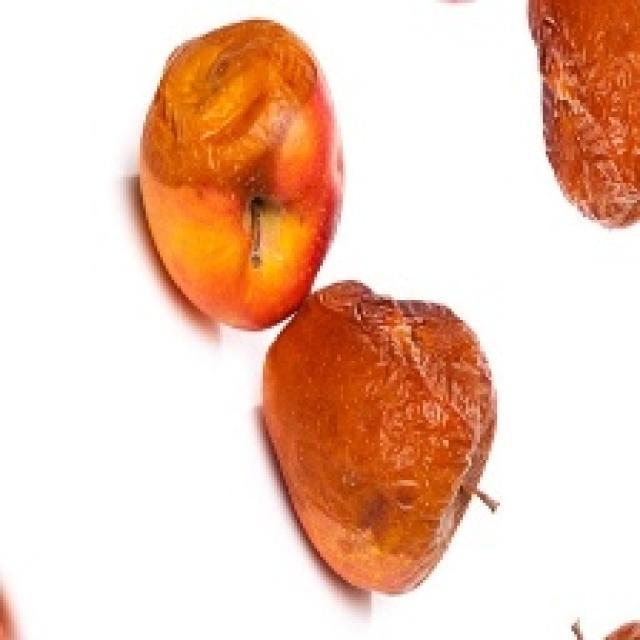apple: (262, 281, 496, 593), (140, 19, 341, 330)
